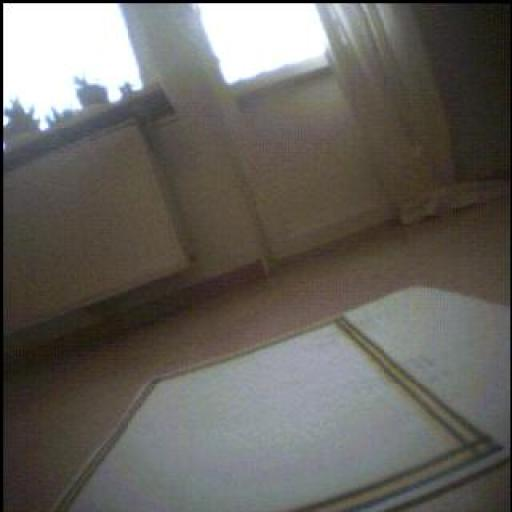Pad: (59, 289, 512, 512)
